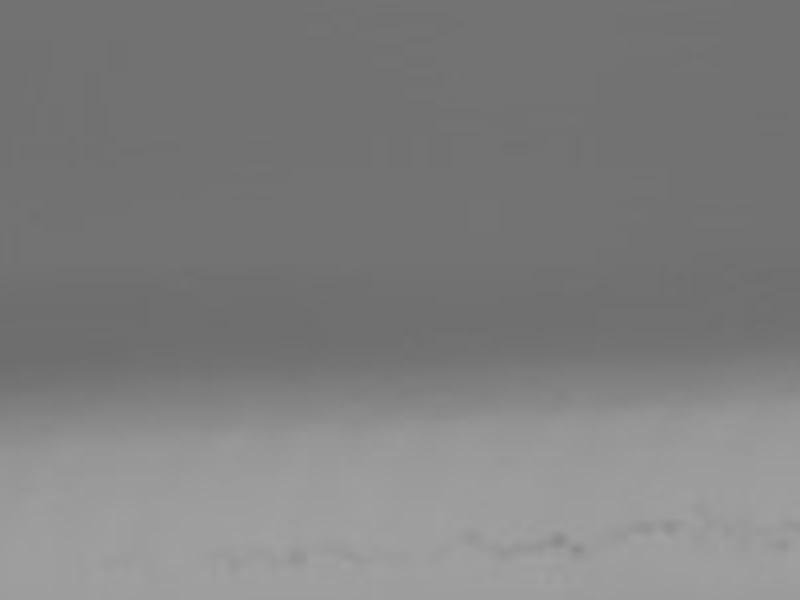defect: (488, 540, 509, 563), (626, 516, 651, 535), (770, 536, 794, 555), (458, 525, 481, 543), (658, 517, 681, 534), (526, 537, 546, 556), (551, 528, 568, 546), (569, 542, 590, 556)
